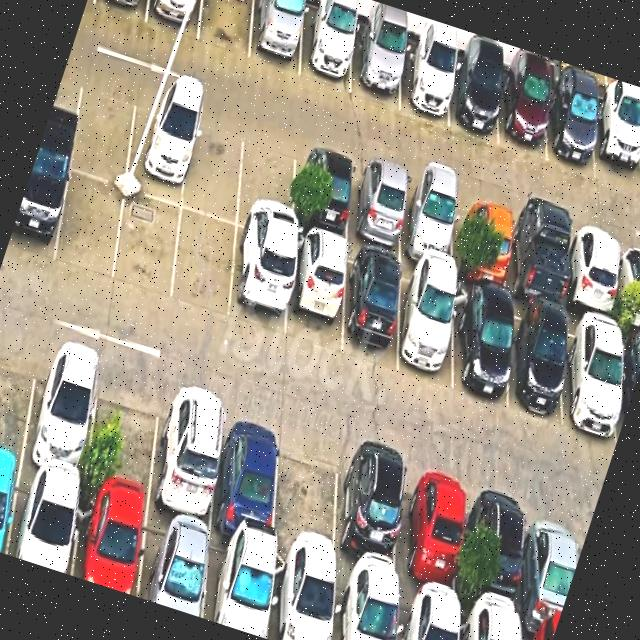empty: (85, 359, 164, 509), (273, 422, 341, 570), (55, 171, 126, 282), (70, 72, 137, 186), (114, 190, 181, 303), (171, 209, 236, 319), (236, 126, 297, 243), (182, 109, 244, 224), (0, 325, 41, 464), (198, 0, 254, 59)
occupied: (21, 337, 102, 487), (149, 380, 225, 530), (211, 400, 283, 547), (336, 440, 406, 590), (399, 458, 463, 609), (469, 479, 528, 627), (125, 90, 195, 207), (137, 511, 210, 618), (523, 496, 578, 637), (8, 469, 81, 575), (73, 491, 145, 597), (285, 232, 347, 354), (203, 533, 273, 639), (341, 248, 400, 369), (563, 314, 619, 440), (6, 154, 70, 264), (398, 266, 452, 390), (453, 285, 507, 408), (507, 301, 562, 420), (229, 229, 289, 338), (293, 143, 353, 242), (268, 553, 334, 640), (510, 209, 563, 311), (350, 160, 404, 257), (456, 193, 508, 292), (299, 4, 356, 93), (402, 175, 454, 271), (498, 69, 549, 161), (547, 83, 595, 179), (569, 226, 616, 322), (449, 57, 500, 144), (593, 101, 640, 194), (399, 40, 449, 127), (249, 0, 304, 77), (350, 26, 401, 108), (333, 575, 397, 640), (397, 592, 457, 640), (146, 0, 202, 40), (620, 330, 640, 434), (618, 240, 640, 328), (0, 463, 21, 554), (460, 611, 519, 640), (94, 0, 149, 22)
